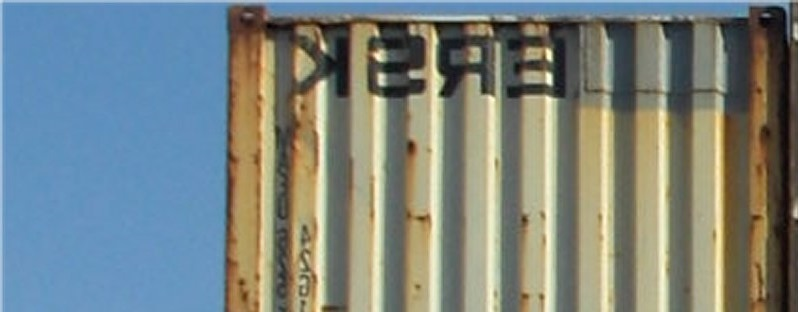container_no_door: (227, 3, 783, 312)
